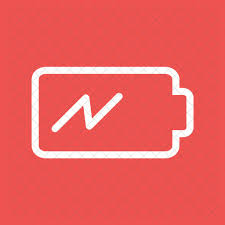charging sign: (26, 57, 202, 166)
